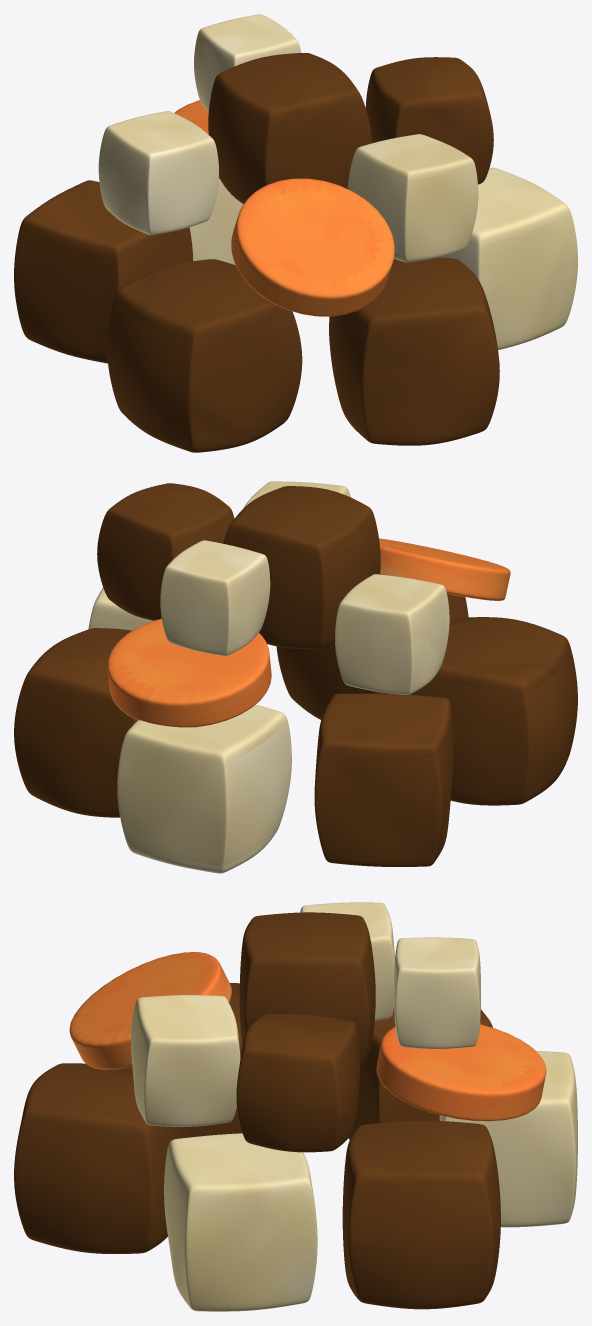
File: SM_Galbijjim.fbx
3 renders of one model, top to bottom at view 1: azimuth 30°, elevation 25°; view 2: azimuth 150°, elevation 25°; view 3: azimuth 270°, elevation 25°, orthographic. The views are drawn at different scales.
Parts seen in each view (by area): view 1: SM_Galbijjim; view 2: SM_Galbijjim; view 3: SM_Galbijjim.
Part boxes in pixels (left/top/right/bottom): SM_Galbijjim: left=14, top=14, right=577, bottom=452; SM_Galbijjim: left=14, top=481, right=577, bottom=873; SM_Galbijjim: left=14, top=902, right=577, bottom=1311.
Bounding box in the file's own units: 29.61 × 18.26 × 32.17.
